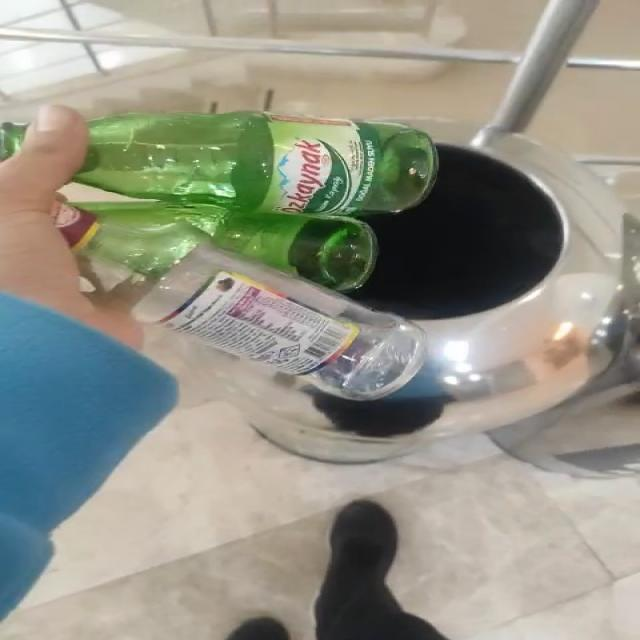Glass: (53, 113, 439, 400)
